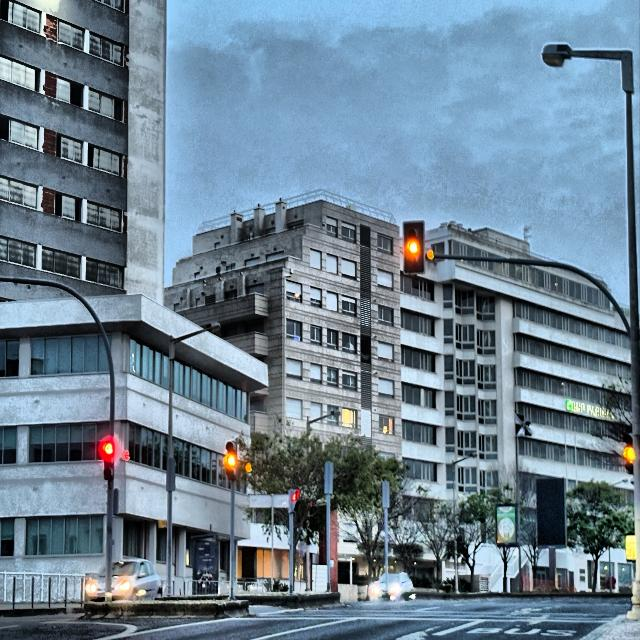red: (100, 436, 114, 481)
yellow: (402, 220, 424, 278), (621, 428, 635, 481), (222, 438, 235, 486)
